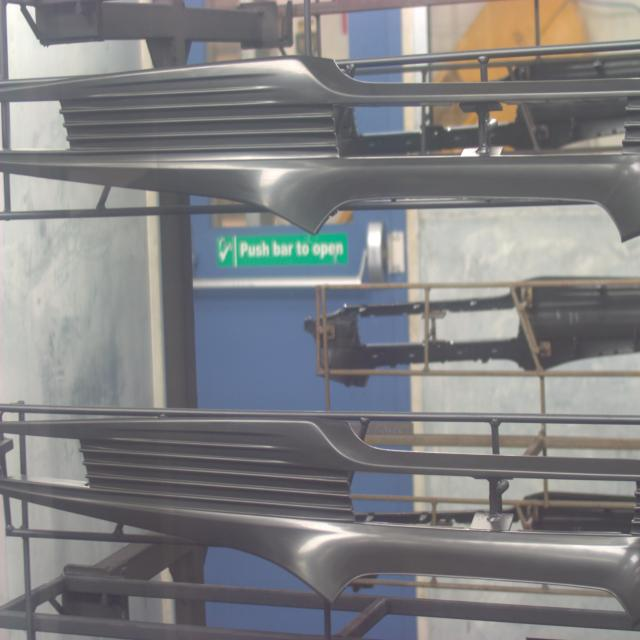Non_primered: (0, 410, 640, 625), (0, 51, 640, 243)
